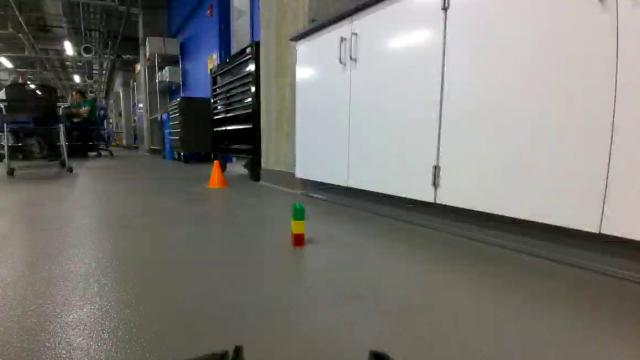lego: (286, 196, 312, 251)
